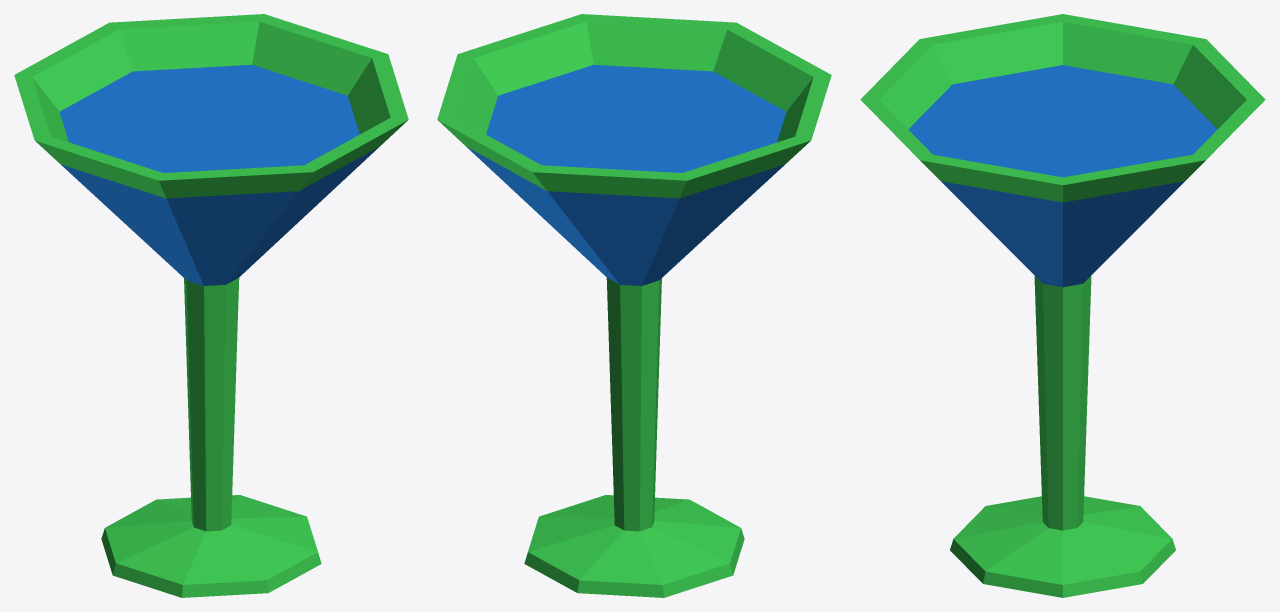
The model's file is SM_martini_glass1.fbx.
3 renders of one model, left to right at view 1: azimuth 30°, elevation 25°; view 2: azimuth 150°, elevation 25°; view 3: azimuth 270°, elevation 25°, orthographic.
Visible parts, largest first — view 1: martini_glass1; view 2: martini_glass1; view 3: martini_glass1.
Boxes of the visible parts, left/top/right/bottom form: martini_glass1: left=14, top=14, right=408, bottom=597; martini_glass1: left=437, top=14, right=831, bottom=597; martini_glass1: left=860, top=14, right=1265, bottom=597.
Size of the model in its own units: 14.5 by 17.79 by 14.5.
